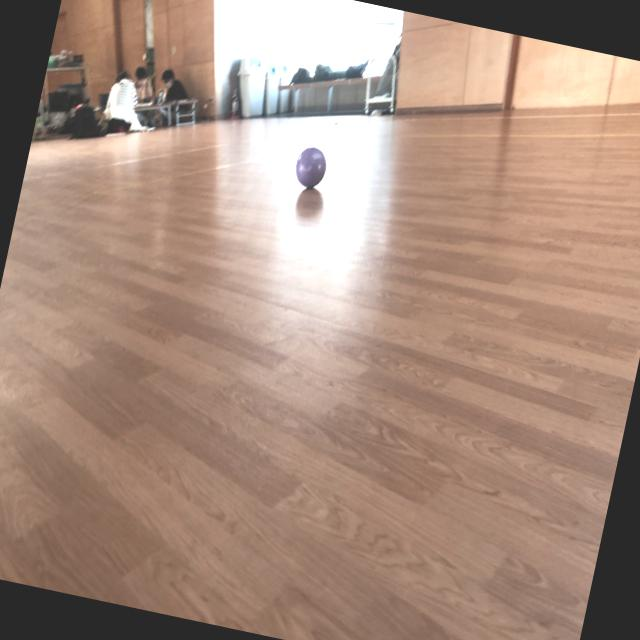purple_ball: (290, 142, 330, 192)
